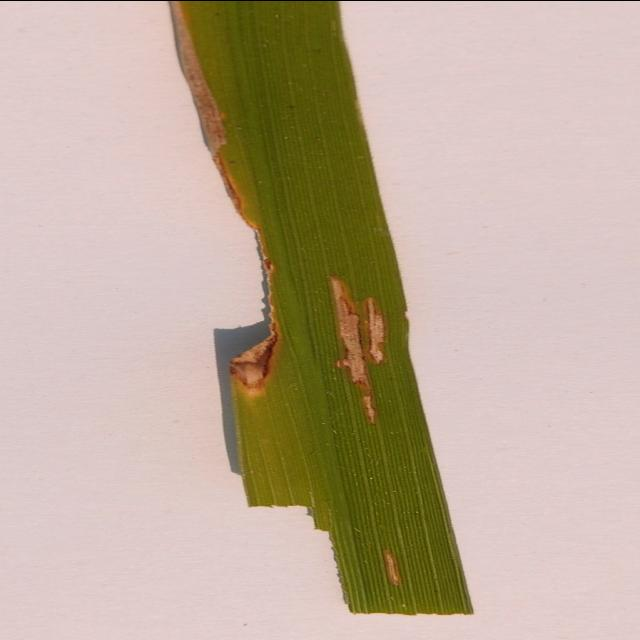Unhealthy: (168, 0, 281, 398), (329, 275, 369, 386), (366, 297, 386, 363), (382, 550, 398, 584), (361, 390, 376, 423)
